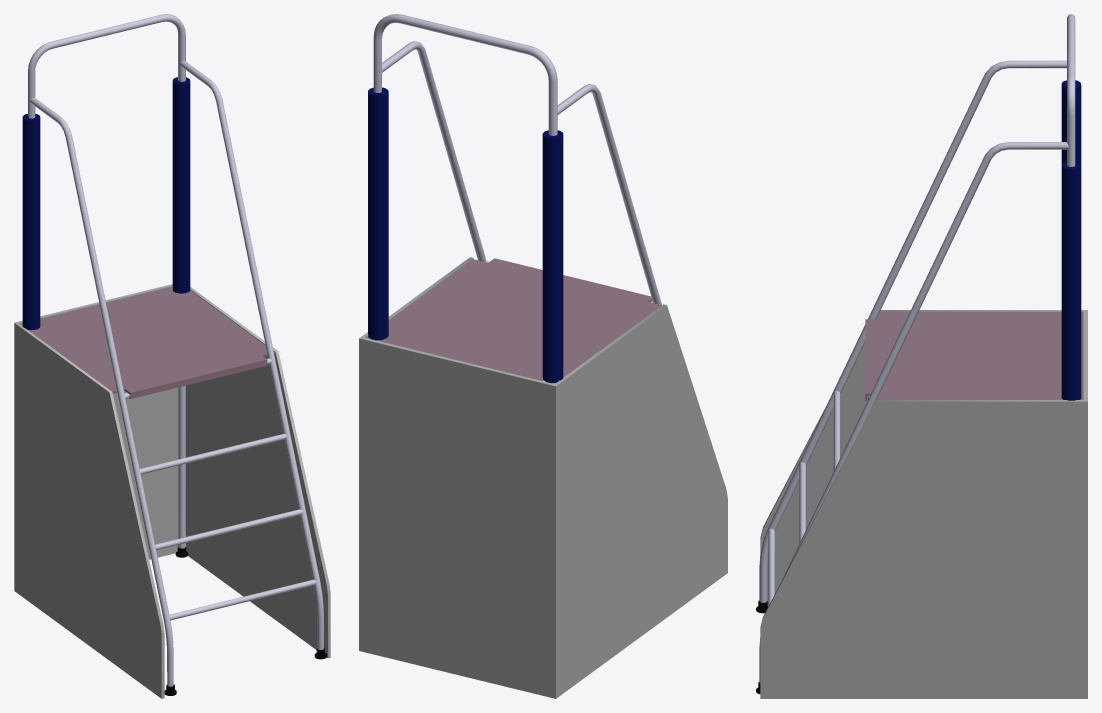
File: Court_refBox_01.fbx
The picture shows the model from 3 angles, left to right: view 1: azimuth 30°, elevation 25°; view 2: azimuth 150°, elevation 25°; view 3: azimuth 270°, elevation 25°; orthographic projection. The views are drawn at different scales.
Visible parts, largest first — view 1: Box001, Box002, Line002, Line013, Cylinder006, Cylinder005, Line012, Line010; view 2: Box001, Box002, Cylinder005, Cylinder006, Line012, Line013, Line002; view 3: Box001, Box002, Line002, Cylinder006, Line013, Line010, Line012, Cylinder005.
Part boxes in pixels (box(x1,y1,x2,y2)): Box001: box(14, 284, 330, 698); Box002: box(28, 287, 275, 398); Line002: box(29, 97, 173, 686); Line013: box(179, 61, 323, 649); Cylinder006: box(172, 77, 190, 293); Cylinder005: box(22, 113, 40, 330); Line012: box(28, 14, 185, 548); Line010: box(124, 358, 316, 620); Box001: box(359, 257, 727, 698); Box002: box(381, 258, 661, 380); Cylinder005: box(542, 130, 563, 382); Cylinder006: box(368, 87, 388, 340); Line012: box(373, 14, 557, 383); Line013: box(382, 41, 486, 262); Line002: box(557, 84, 661, 304); Box001: box(760, 310, 1087, 698); Box002: box(865, 312, 1083, 400); Line002: box(759, 60, 1066, 602); Cylinder006: box(1061, 161, 1081, 400); Line013: box(759, 142, 1068, 683); Line010: box(768, 391, 869, 605); Line012: box(1067, 14, 1075, 166); Cylinder005: box(1061, 80, 1081, 165).
Size of the model in its own units: 0.8392 by 2.6 by 1.29.
